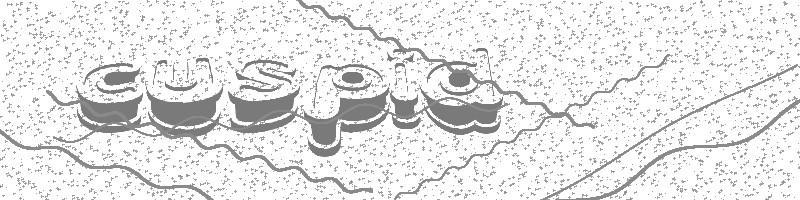c: (75, 62, 143, 133)
d: (420, 47, 502, 138)
i: (386, 47, 421, 130)
p: (304, 63, 390, 159)
s: (227, 59, 300, 134)
u: (145, 56, 225, 137)
